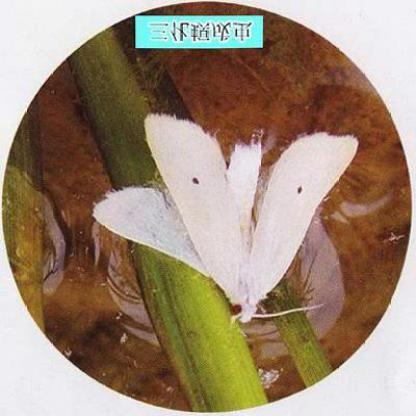stem-borer: (90, 114, 359, 328)
